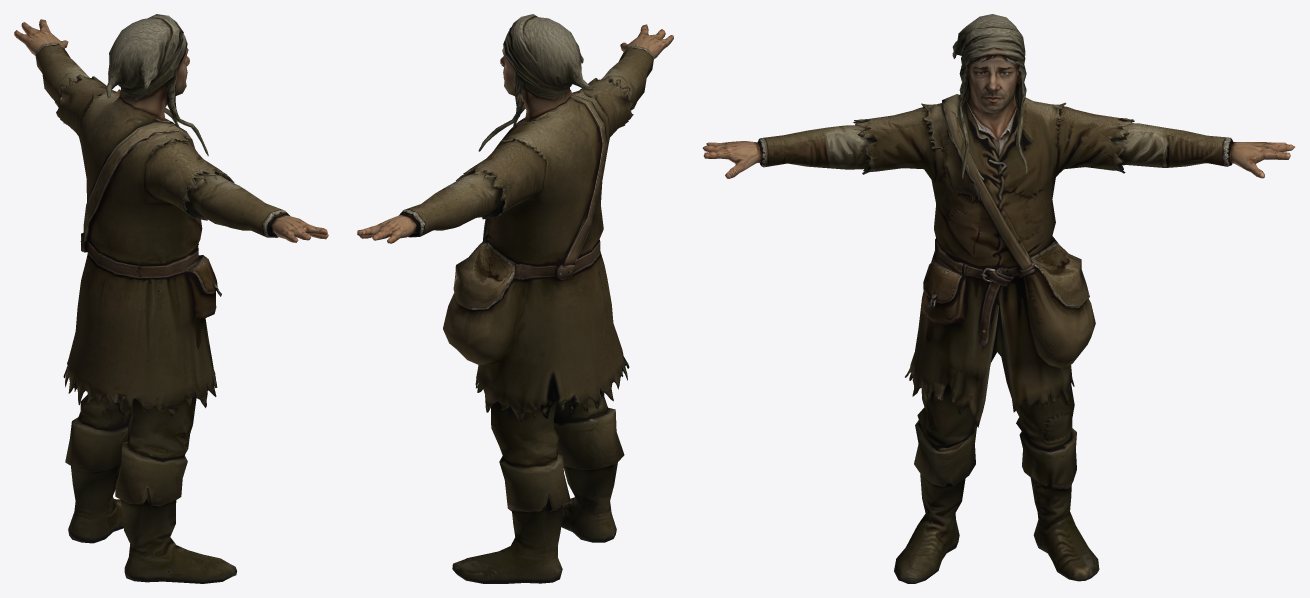
Rendered from peasant.glb.
The picture shows the model from 3 angles, left to right: view 1: azimuth 30°, elevation 25°; view 2: azimuth 150°, elevation 25°; view 3: azimuth 270°, elevation 25°; orthographic projection. The views are drawn at different scales.
Visible parts, largest first — view 1: world; view 2: world; view 3: world.
Part boxes in pixels (x1,y1,x2,y2): world: [14, 14, 328, 583]; world: [357, 14, 673, 583]; world: [703, 14, 1294, 583].
Bounding box in the file's own units: 0.2637 × 0.998 × 0.9863.
Materials: 1 (1 with a texture image).
